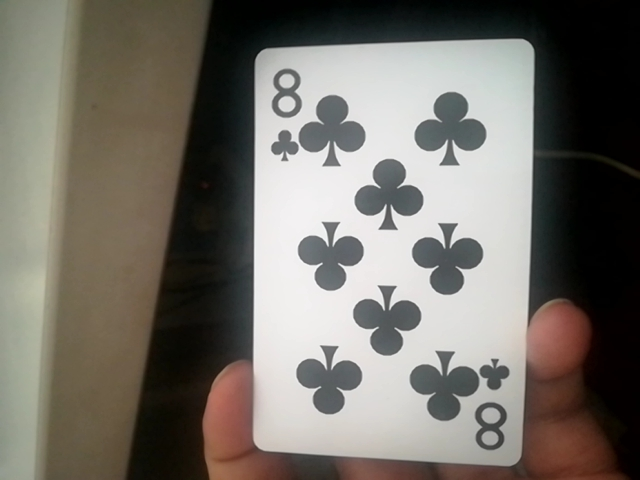mh 8: (238, 47, 536, 472)
